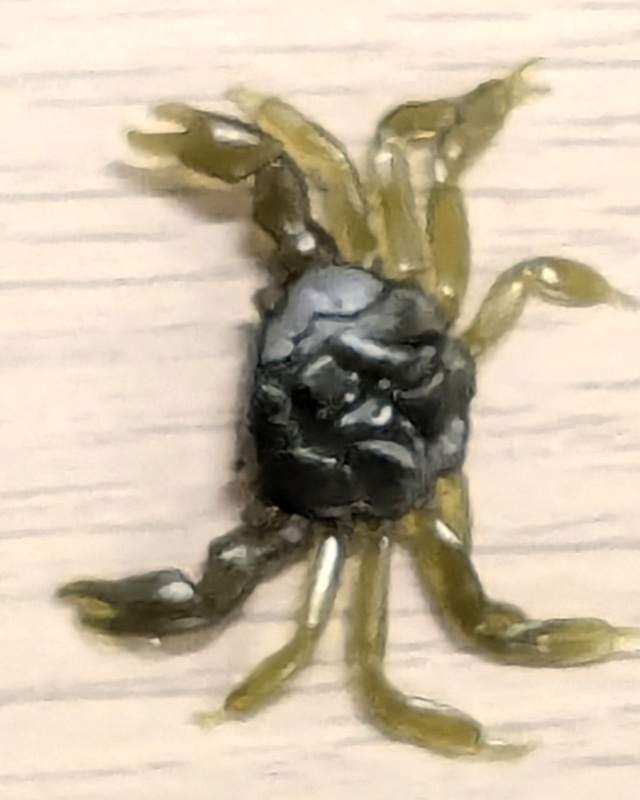crab2: (51, 54, 640, 765)
